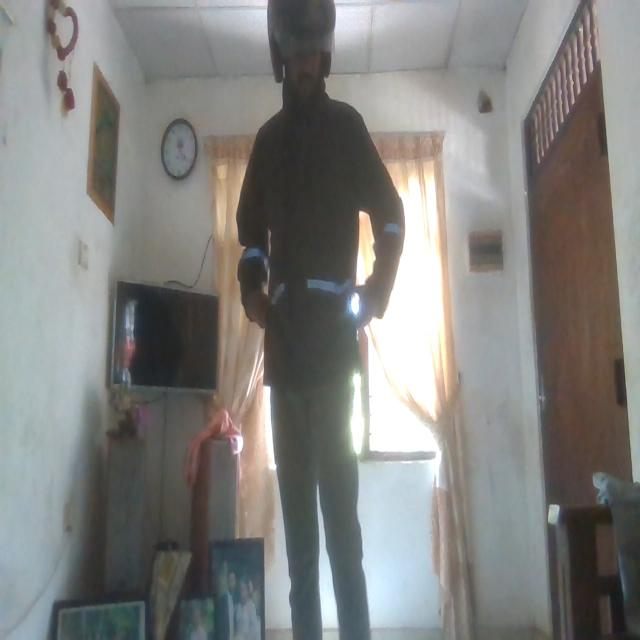Helmet_Wearer: (265, 1, 345, 106)
Jacket_Wearer: (230, 92, 408, 370)
Person: (242, 2, 418, 640)
